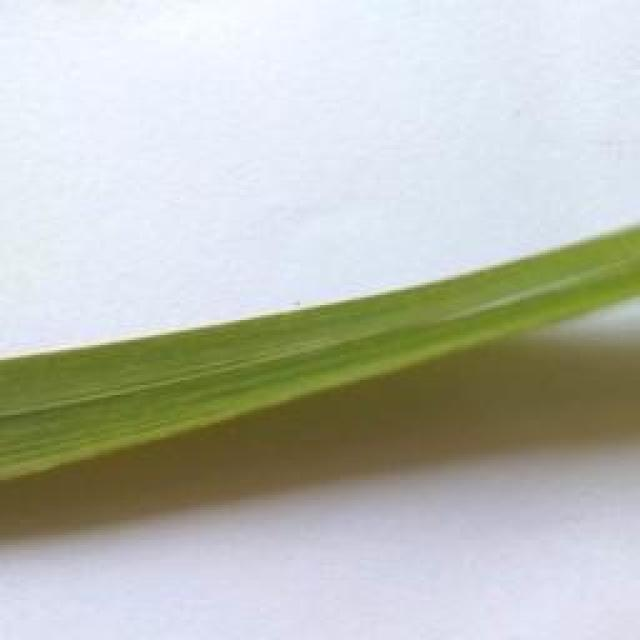Healthy-Plant: (0, 224, 640, 488)
